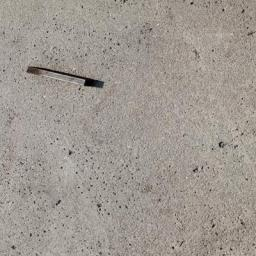FOD: (24, 63, 104, 94)
